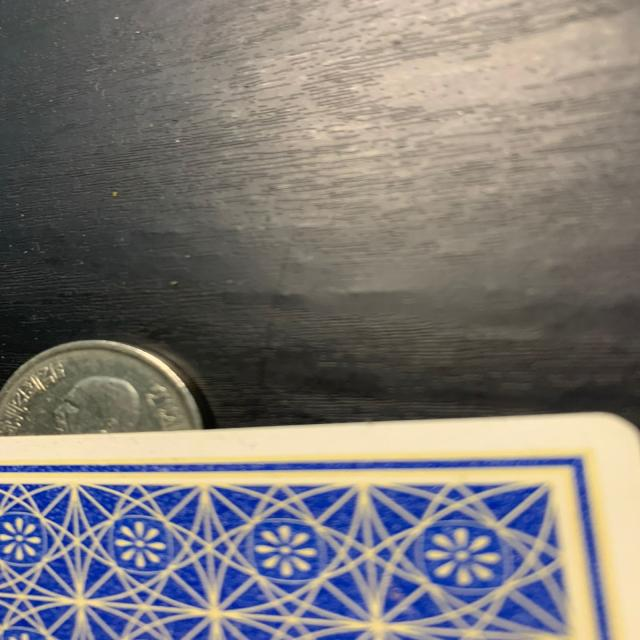10-coins: (1, 339, 204, 436)
